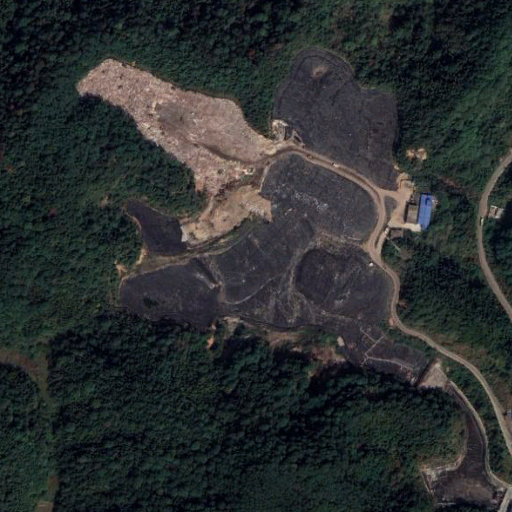lf: (77, 49, 436, 386)
